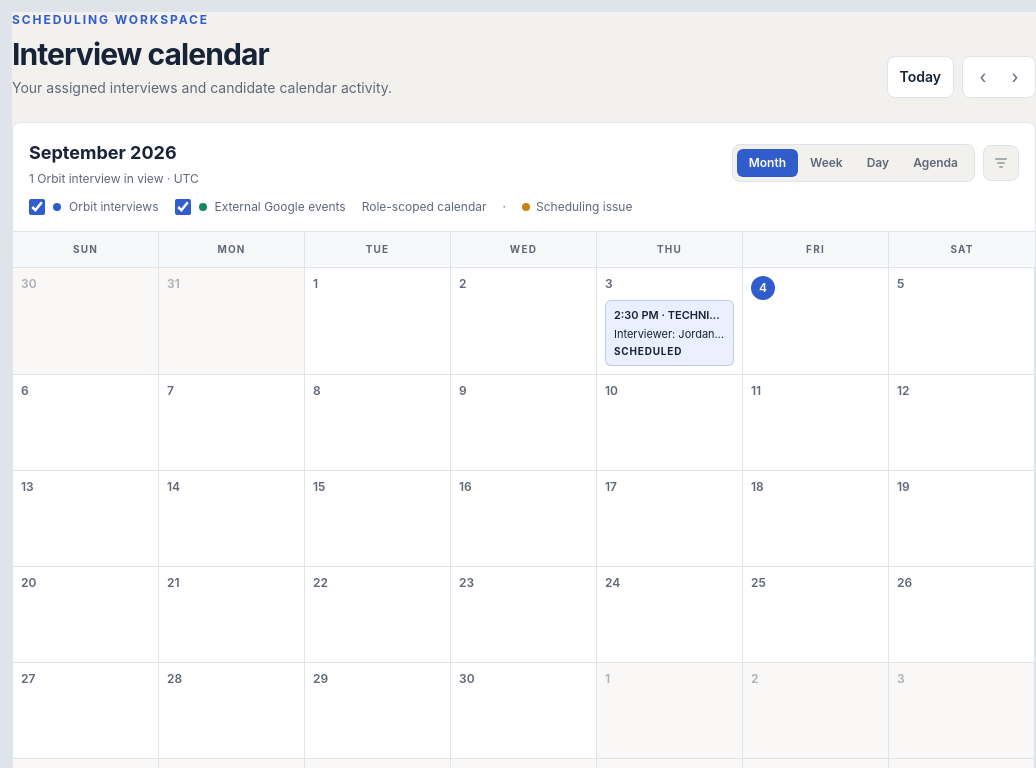
Scenario: CalendarWorkspace › filters interview events when the Orbit calendar is toggled off
Click the checkbox labelled "Orbit interviews": (37, 207) [29,199,45,215]
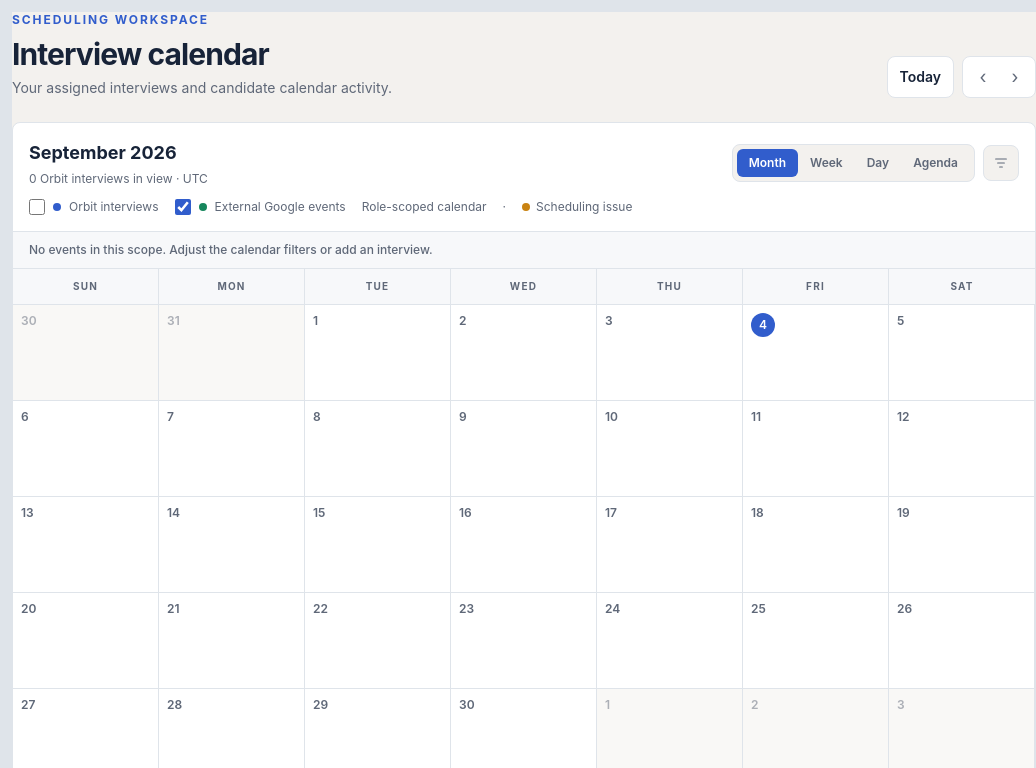
Now the text "0 Orbit interviews" is shown, box [29,171,208,187]
Now the text "No events in this scope" is shown, box [29,242,433,257]
Now the button with test id "calendar-event" is gone
